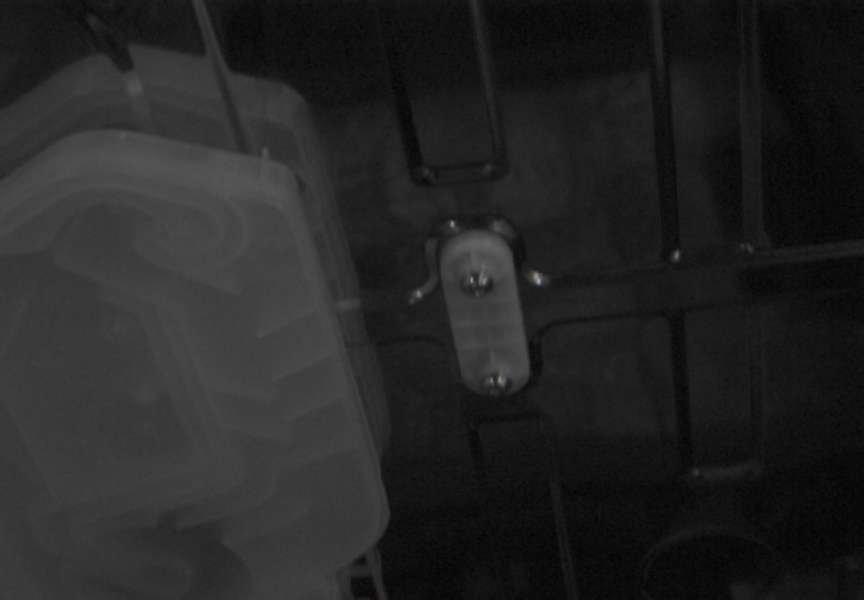screw: (460, 270, 494, 298), (481, 372, 512, 397)
